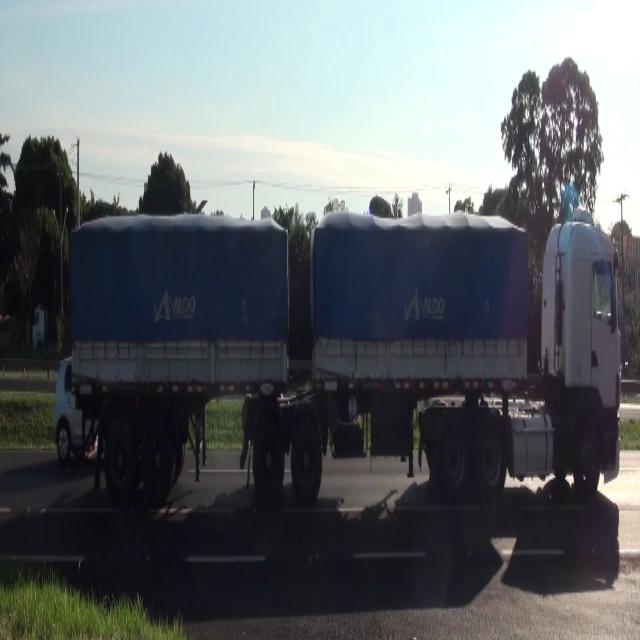-axle: (100, 412, 139, 499), (251, 406, 285, 494), (290, 410, 322, 503), (439, 420, 472, 503), (474, 417, 507, 498), (144, 418, 173, 495), (573, 425, 601, 502)
